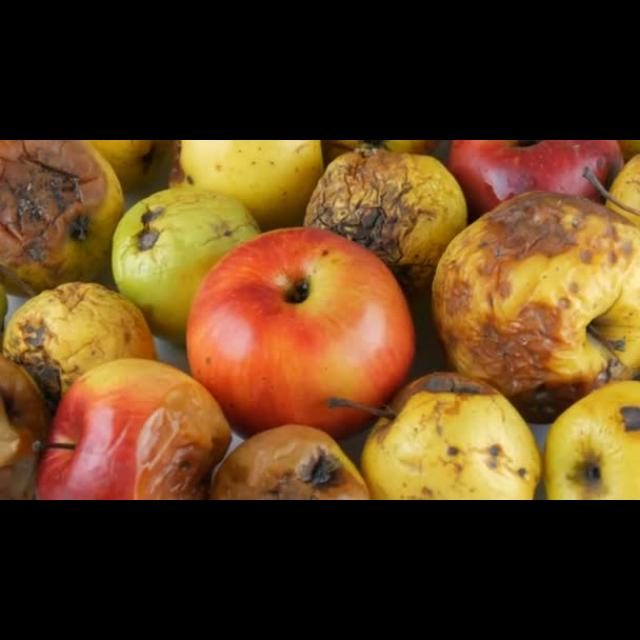Apel Segar: (186, 231, 424, 434)
Apel Tidak Segar: (434, 186, 640, 422), (50, 348, 236, 499), (286, 144, 488, 282), (356, 352, 540, 500), (107, 174, 263, 326), (1, 140, 127, 296), (4, 278, 156, 382), (530, 364, 640, 500), (230, 416, 384, 500)
